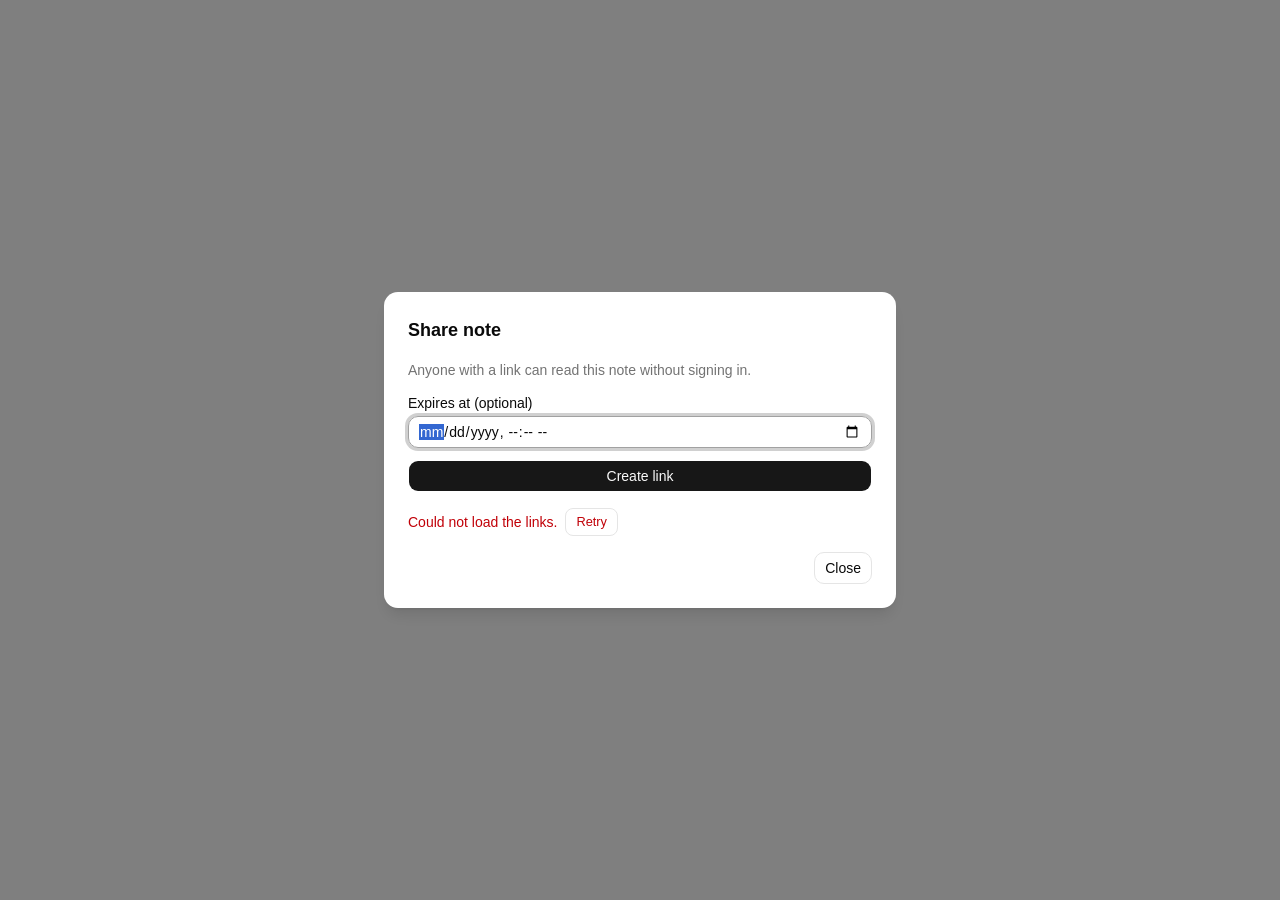
Test: ShareModal › shows a retryable error when the links cannot be loaded
The width and height of the screenshot is (1280, 900).
Expected: the text "Could not load the links." is shown, [408,514,557,530]
Step 1. Click the button "Retry" → (592, 522), box [565,508,618,536]
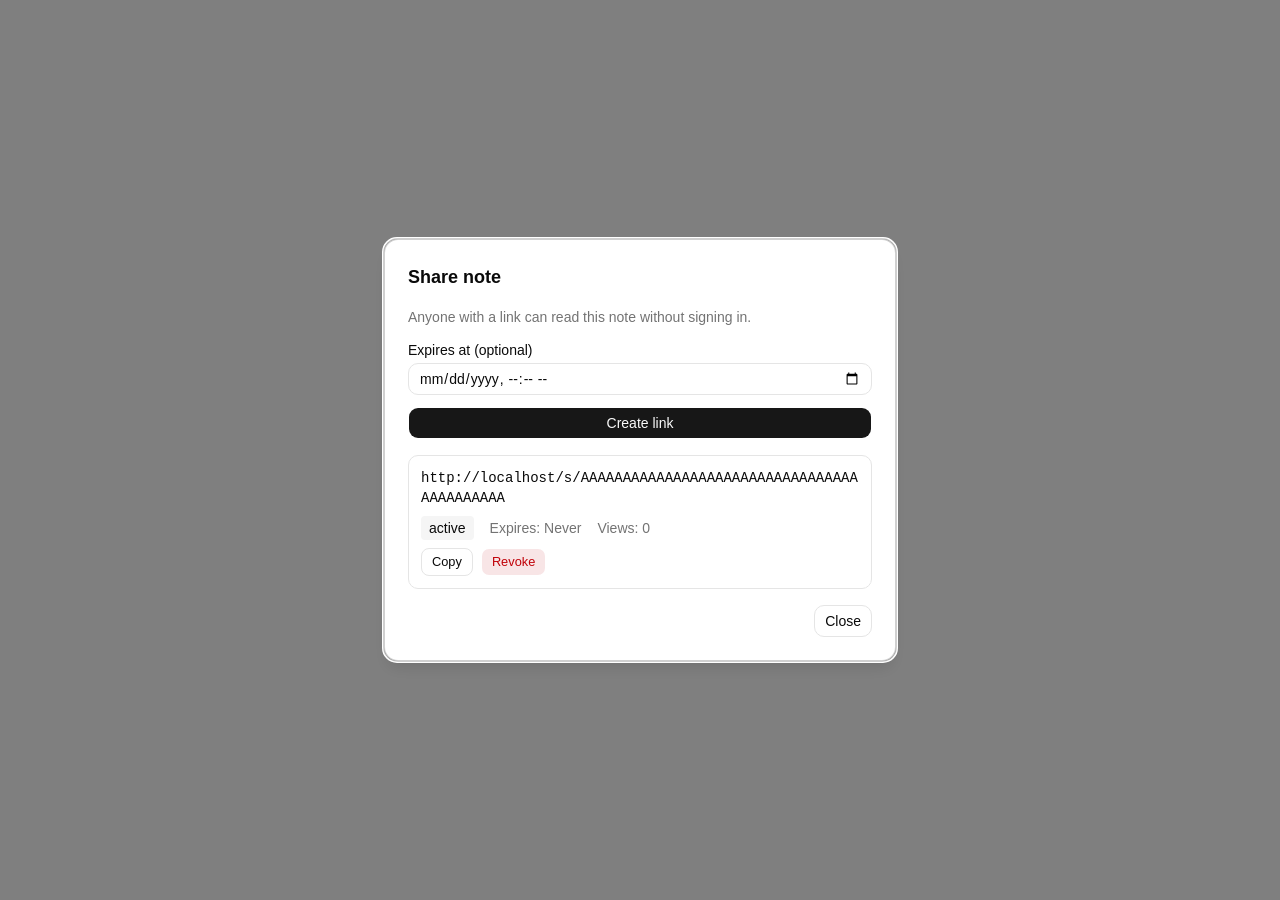
Now the text "Views: 0" is shown, box [597,518,650,538]
